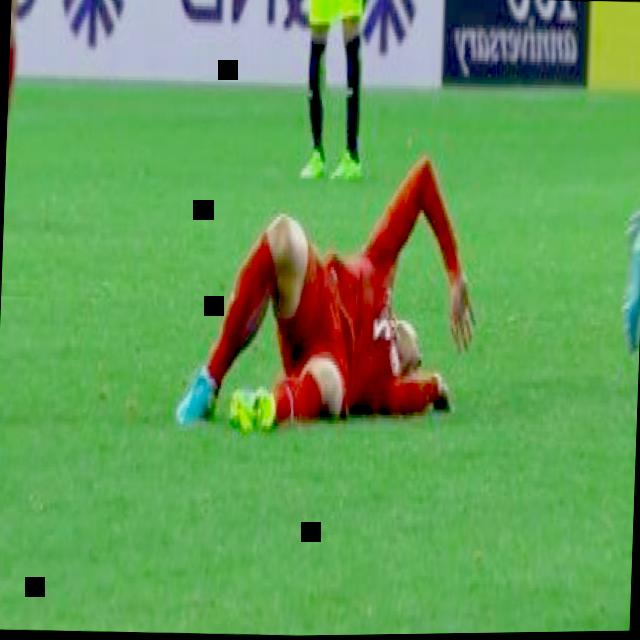Fall-Detected: (176, 110, 486, 448)
